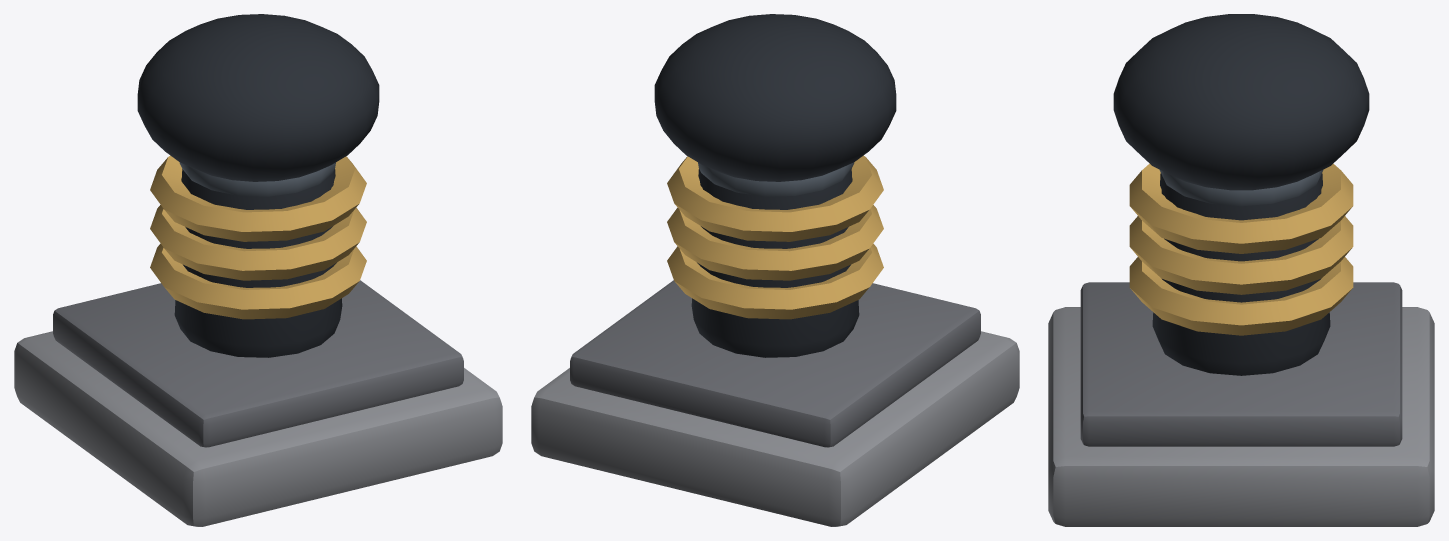
Rendered from Bollard.glb.
3 views of the same model, side by side, from view 1: azimuth 30°, elevation 25°; view 2: azimuth 150°, elevation 25°; view 3: azimuth 270°, elevation 25° (orthographic). The views are drawn at different scales.
Parts seen in each view (by area): view 1: Bollard; view 2: Bollard; view 3: Bollard.
Boxes of the visible parts, x1,y1,x2,y2 form: Bollard: (14, 14, 502, 526); Bollard: (531, 14, 1019, 526); Bollard: (1048, 14, 1434, 526).
Size of the model in its own units: 0.6 by 0.72 by 0.6.
